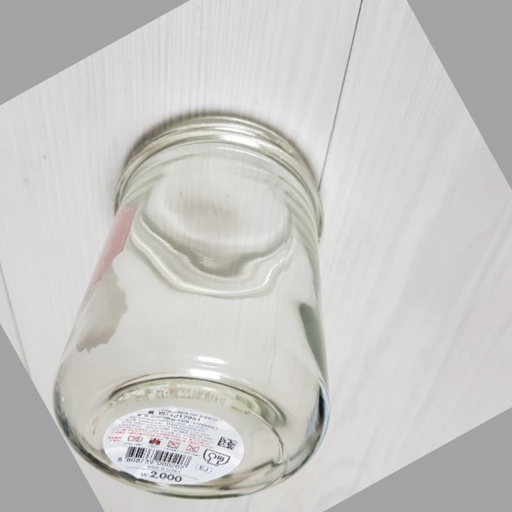Glass_5: (49, 116, 337, 499)
